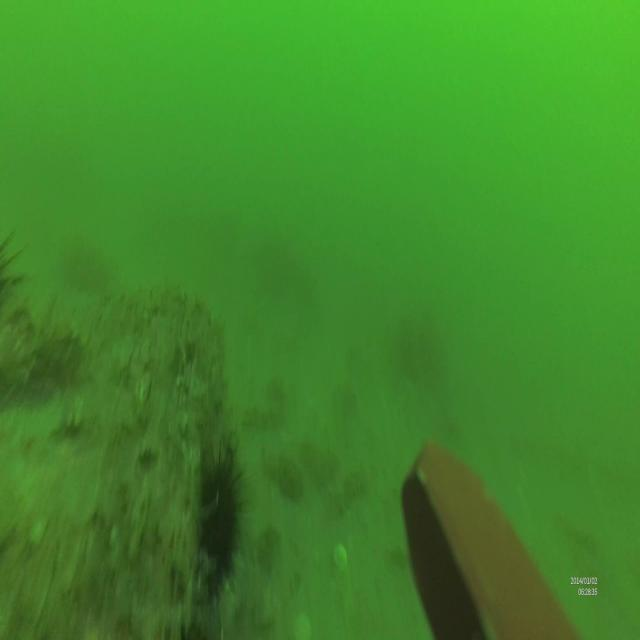echinus: (198, 442, 251, 604)
